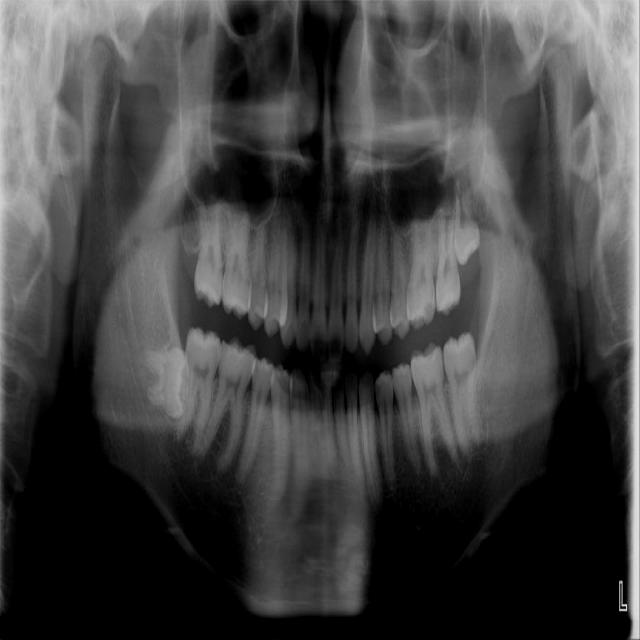impacted tooth: (130, 345, 186, 416), (451, 176, 480, 262)
